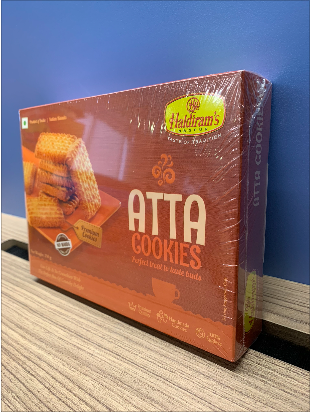Cookies_200-299g: (26, 110, 238, 292)
